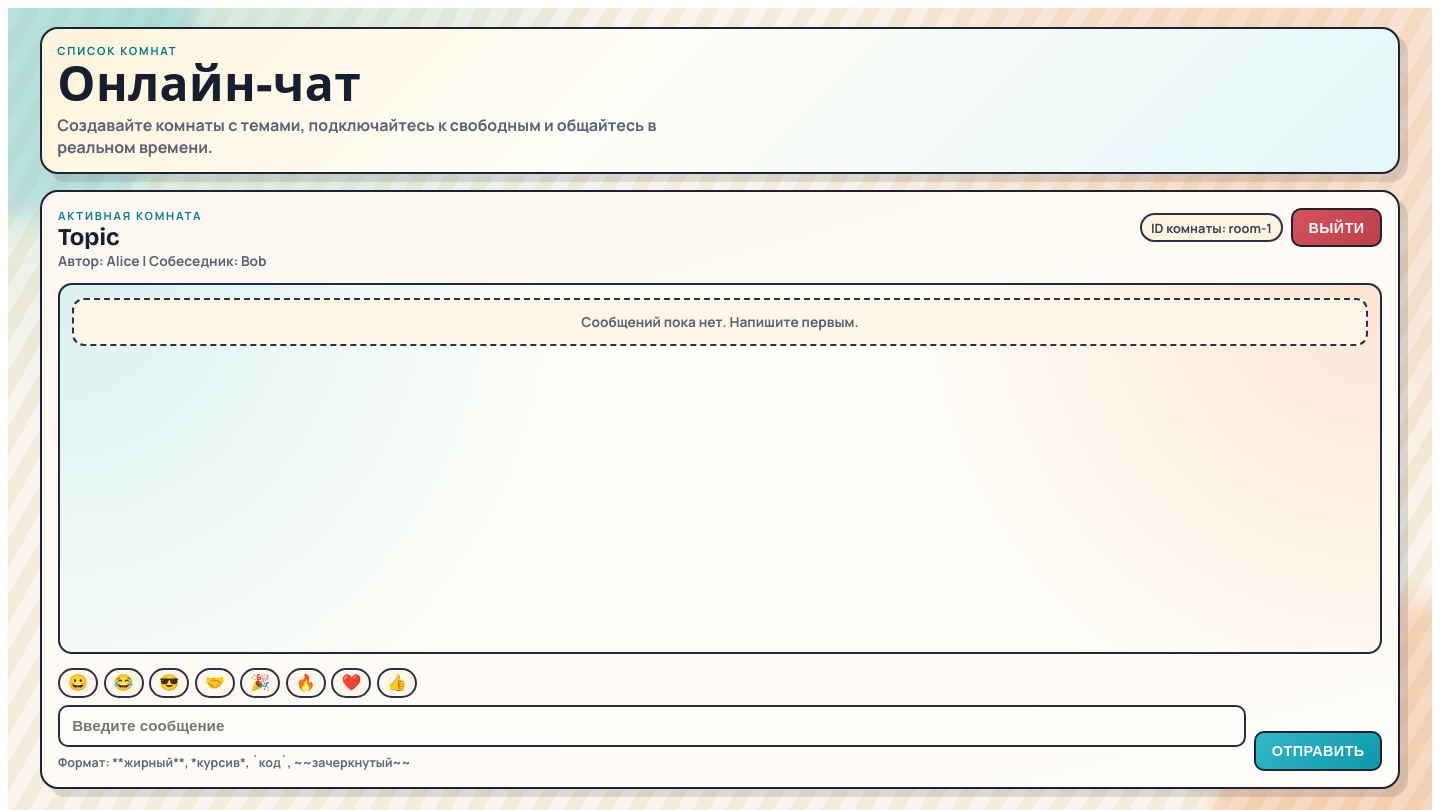
Test: App › appends emoji from toolbar into composer input
This screenshot has width=1440, height=810.
Click the button "😀" at (78, 683), box [58, 668, 98, 698]
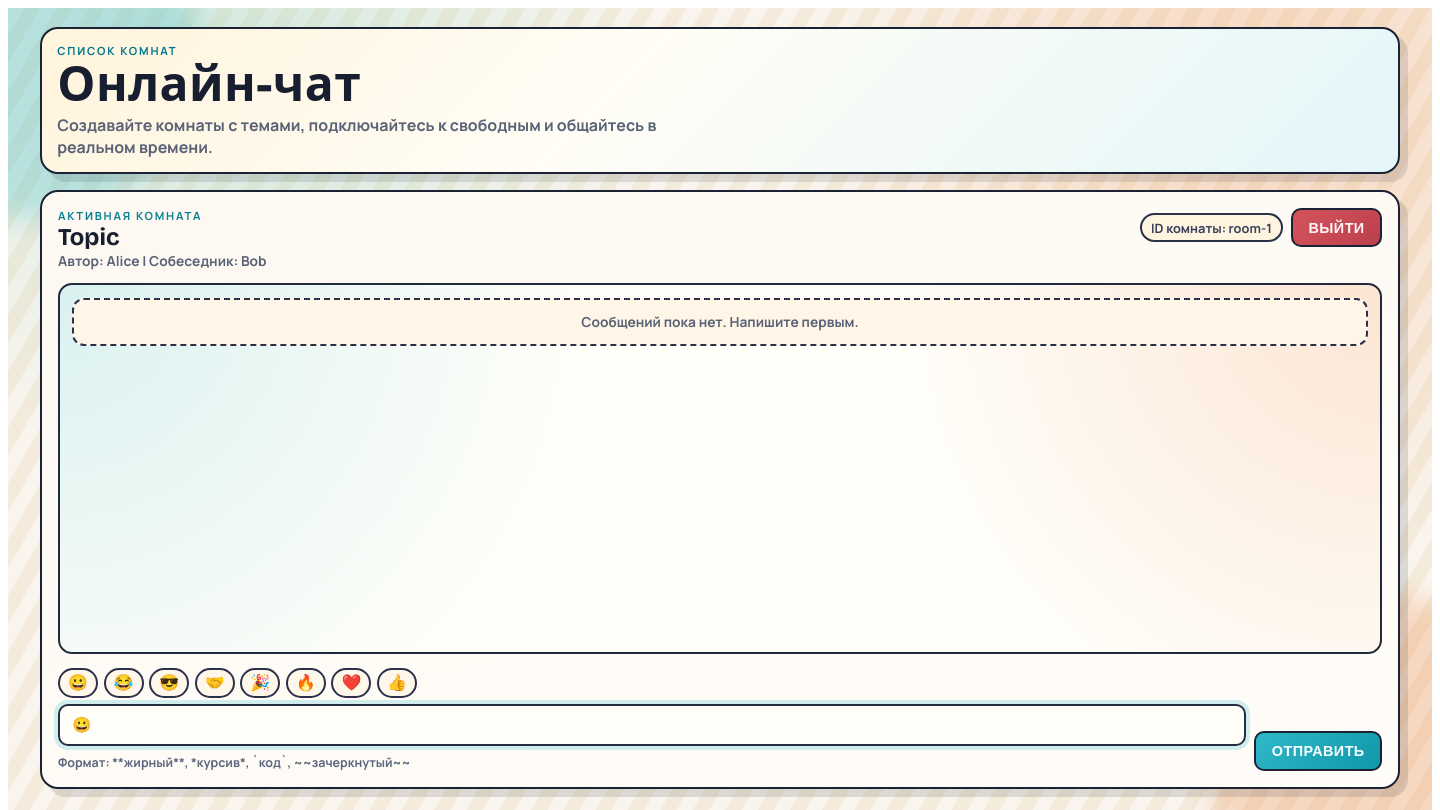
Check: the field with class "composer-input" holds "😀", box [58, 704, 1246, 746]
